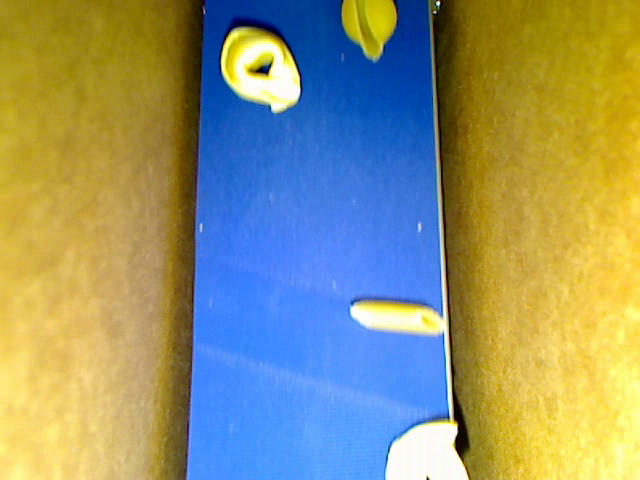penne: (348, 300, 449, 335)
shell: (340, 1, 397, 64)
tortellini: (220, 27, 302, 115), (384, 419, 469, 479)
